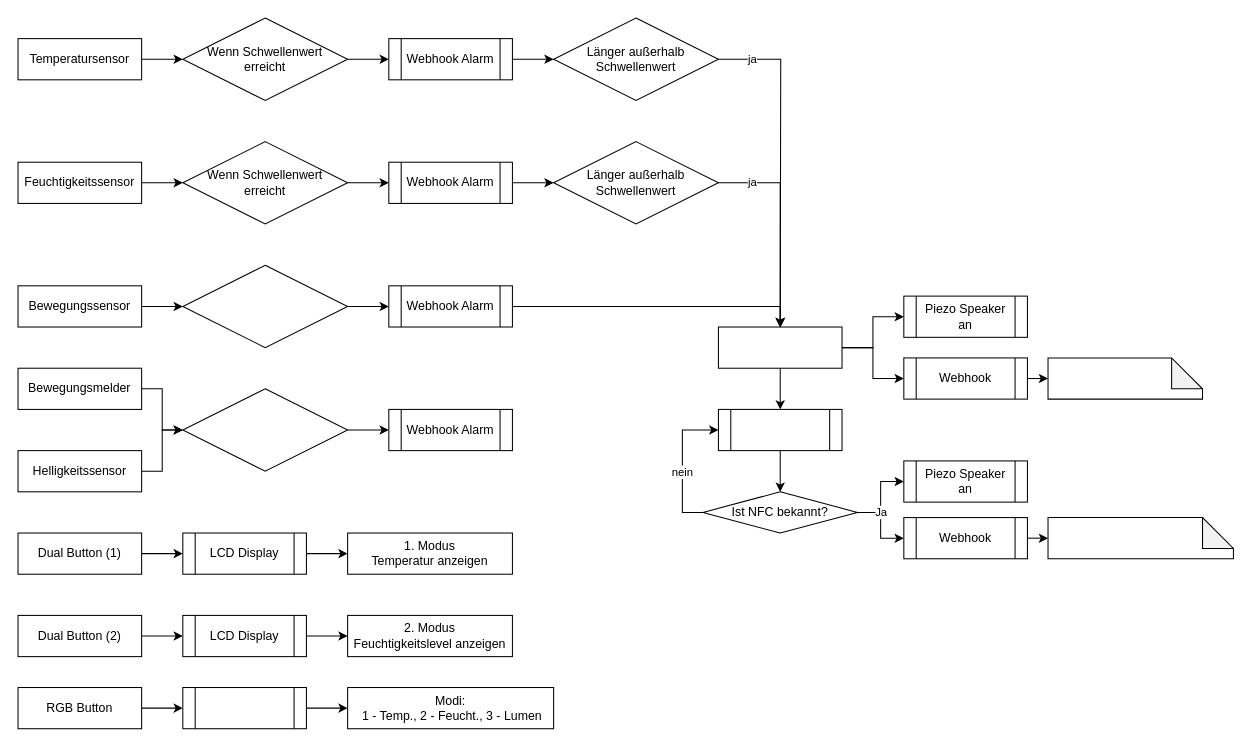
This 1251x747 diagram has some shape labels left out. The centre of each missing label's shape, as x and y in pixels:
"Alarm an <Grund>" goes at [1125,378].
"Alarm aus <ID, Nutzer>" goes at [1140,538].
"Alarmierung" goes at [779,347].
"NFC Tag reader" goes at [779,429].
"Seg. Display" goes at [244,707].
"Wenn außerhalb akzeptabler Uhrzeit" goes at [265,306].
"Wenn seit 10m keine Bewegung & Licht an" goes at [265,429].
